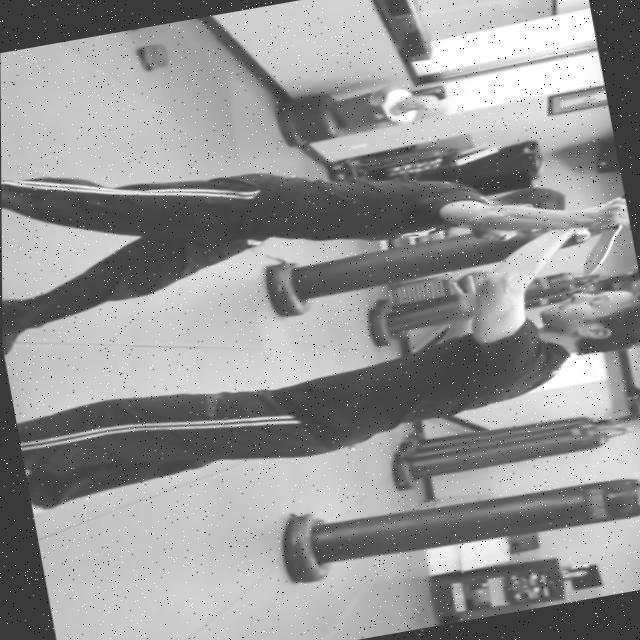knife: (574, 222, 629, 276)
